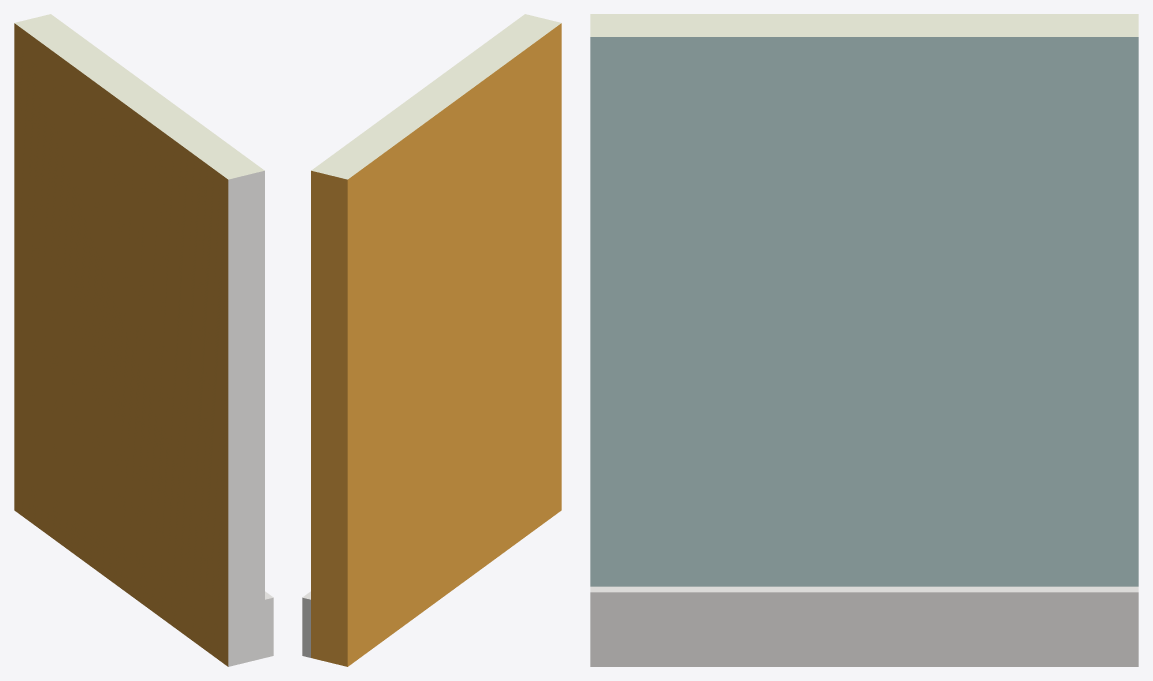
Rendered from Wall.fbx.
3 renders of one model, left to right at view 1: azimuth 30°, elevation 25°; view 2: azimuth 150°, elevation 25°; view 3: azimuth 270°, elevation 25°, orthographic. The views are drawn at different scales.
Visible parts, largest first — view 1: 02.005; view 2: 02.005; view 3: 02.005.
Boxes of the visible parts, box(x1,y1,x2,y2) form: 02.005: box(14, 14, 273, 666); 02.005: box(302, 14, 561, 666); 02.005: box(590, 14, 1138, 666).
Bounding box in the file's own units: 24.58 × 251 × 200.
Materials: 1 (1 with a texture image).
